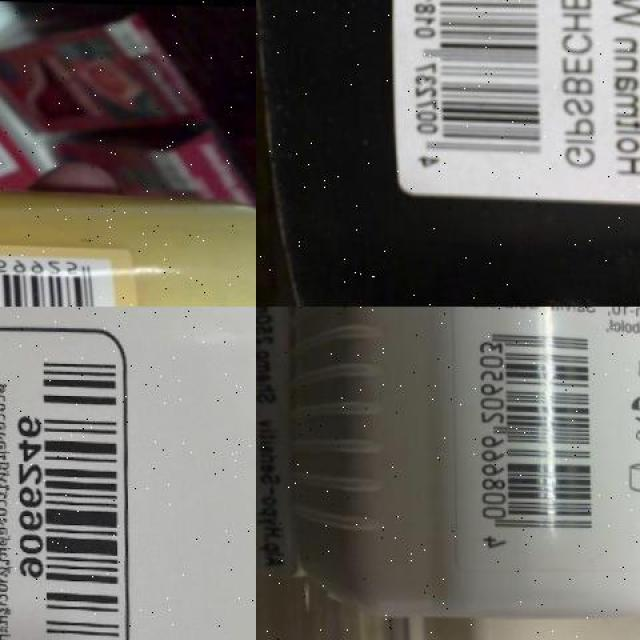Barcode: (456, 315, 600, 561), (7, 340, 124, 640), (394, 0, 550, 173), (0, 246, 115, 306)
